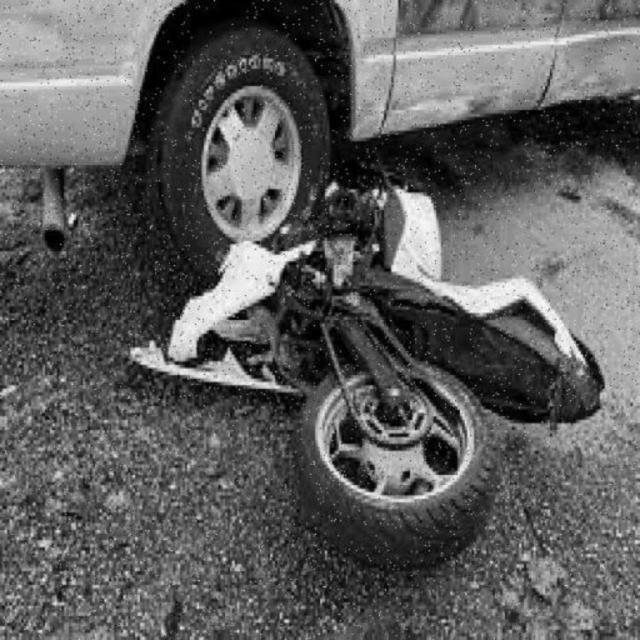accident: (129, 1, 593, 562)
